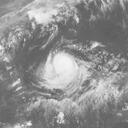cyclone: (36, 49, 86, 95)
